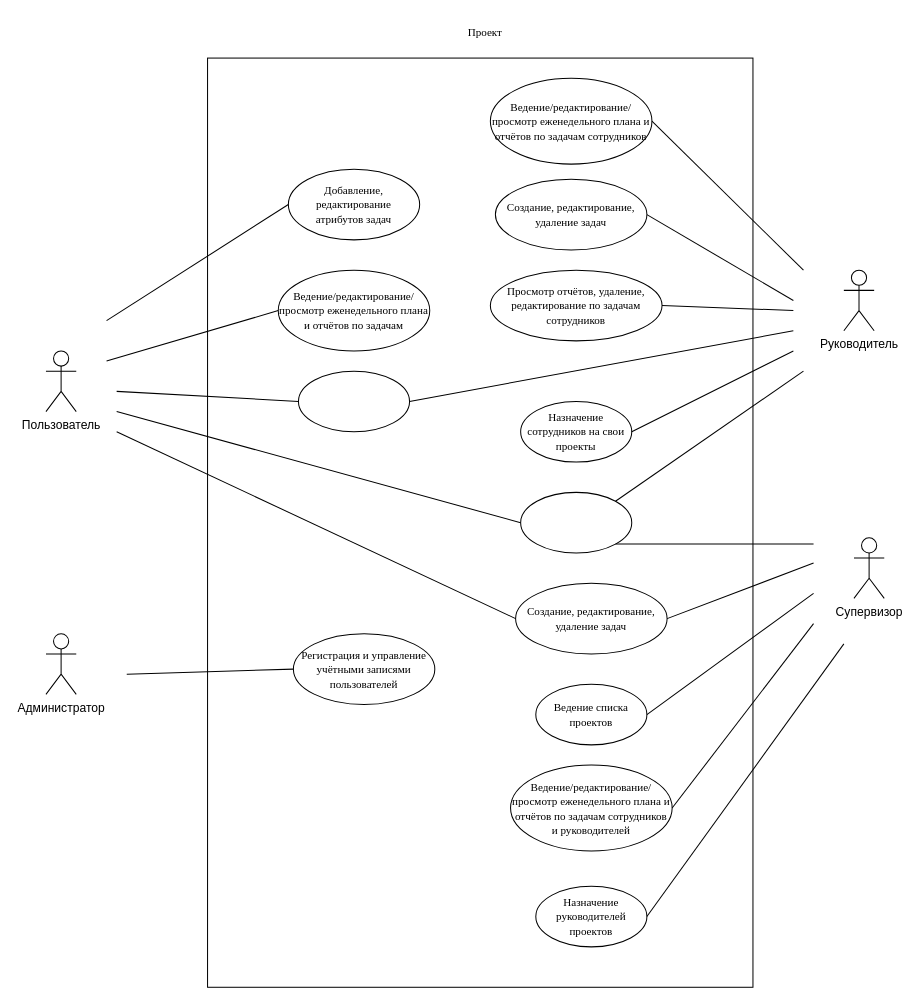
Image size: 920x1005. Some labels were removed from this diagram. Each missing label, with the centre of its shape:
"Вывод данных для печати" goes at point (576, 522).
"Опубликование отчета" goes at point (353, 401).
